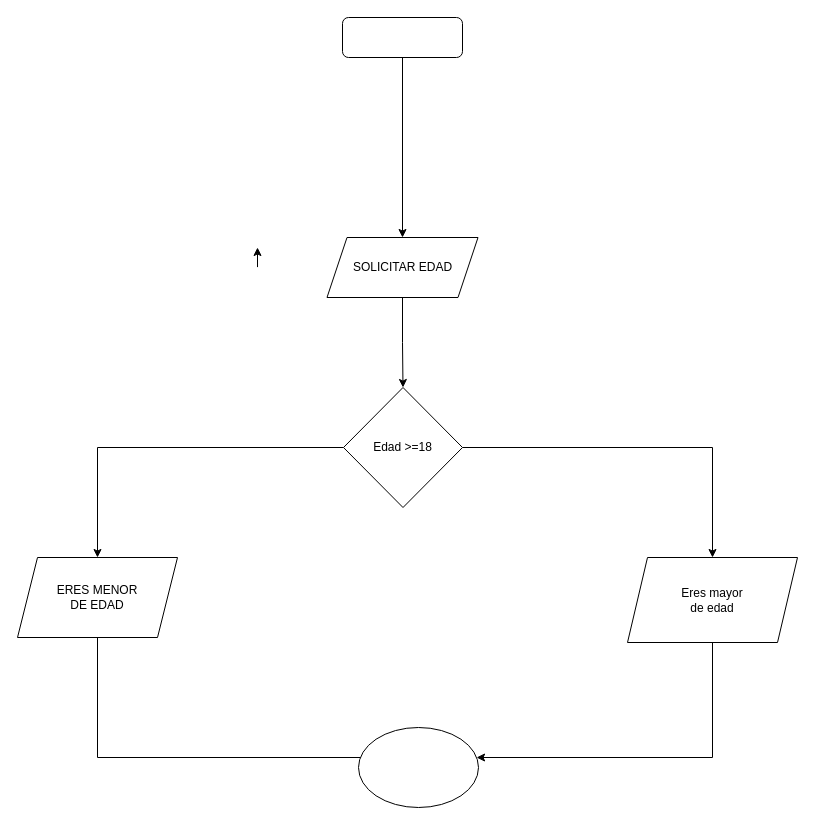
This 815x825 diagram has some shape labels left out. Each missing label, with the box of its shape:
FIN: (358, 726, 478, 808)
INICIO: (342, 16, 462, 58)
